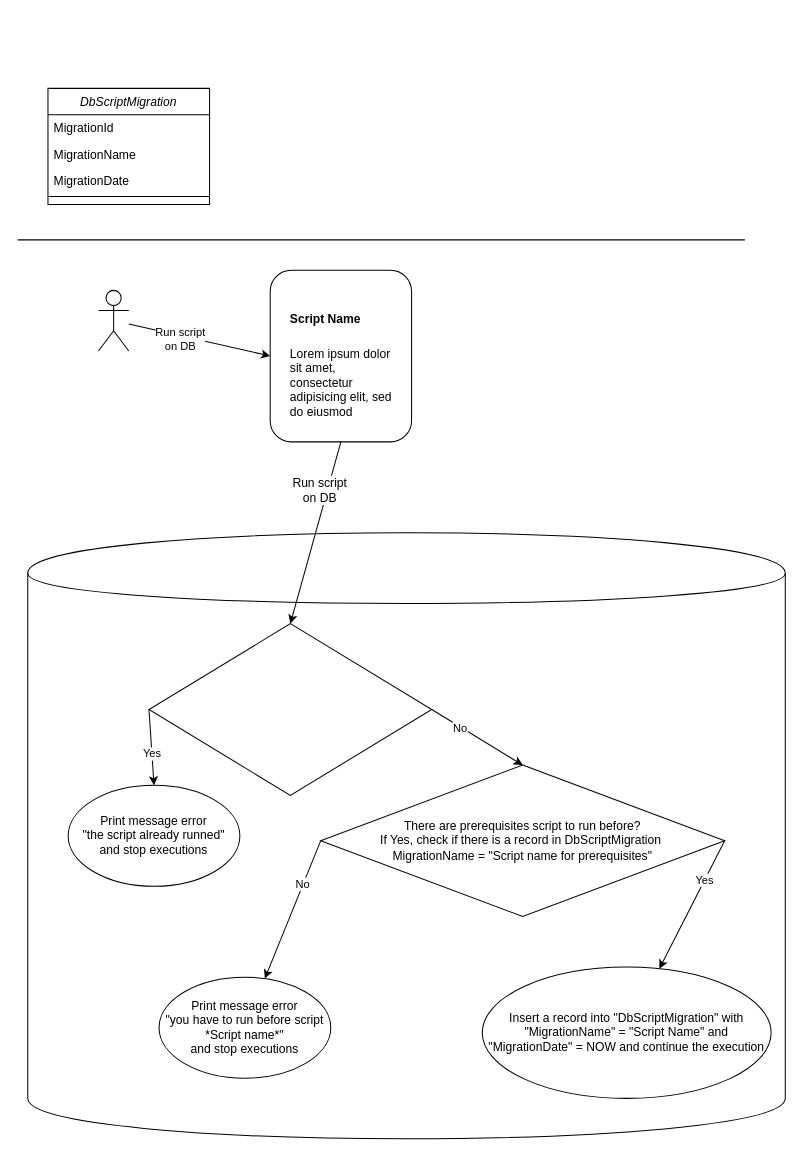
Some shapes in this 803 by 1156 pixel diagram are drawn without their labels. Each missing label, with the centre of its shape:
Check if there is a record in DbScriptMigration MigrationName = "Script Name": (290,709)
Developer / DBA: (113,320)
